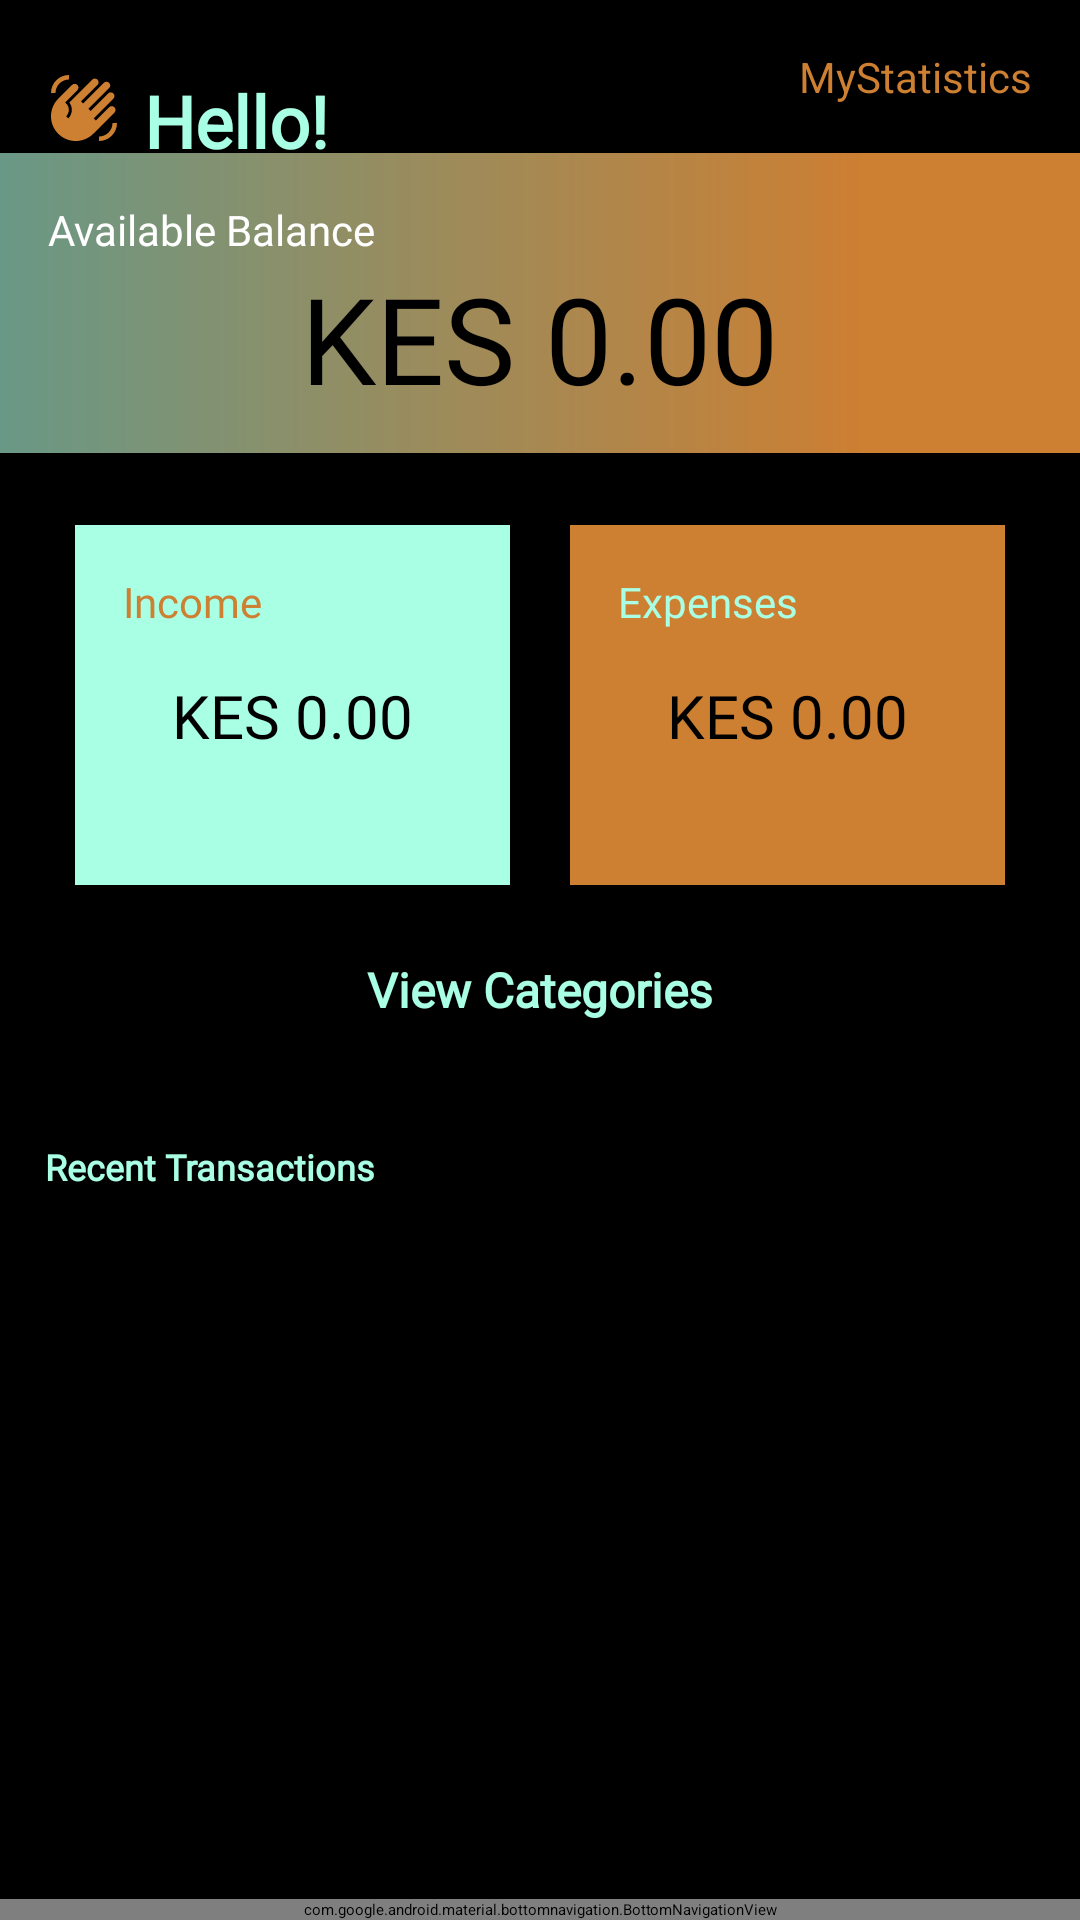

Where icons sit on this 1080*1920 app screen, as (x1=x1, y1=y1, x2=x2, y2=y2):
waving hand: (x1=51, y1=75, x2=117, y2=141)
